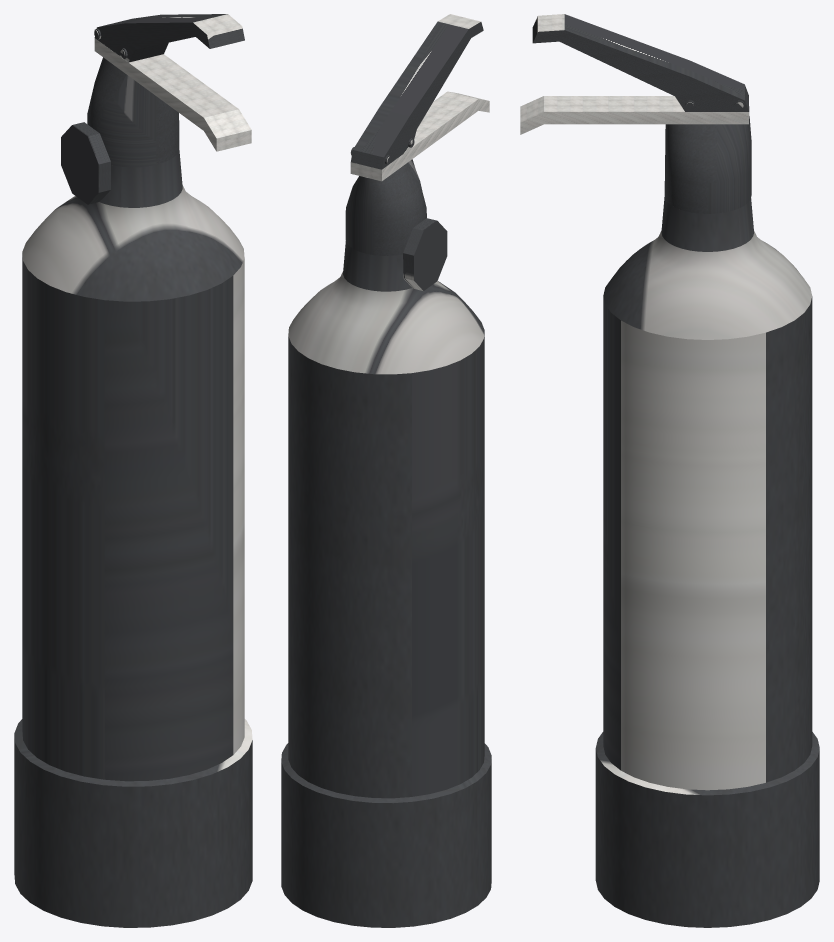
The picture shows the model from 3 angles, left to right: view 1: azimuth 30°, elevation 25°; view 2: azimuth 150°, elevation 25°; view 3: azimuth 270°, elevation 25°; orthographic projection. The views are drawn at different scales.
Parts seen in each view (by area): view 1: Cylinder, Cube.001, Cylinder.005, Cylinder.006; view 2: Cylinder, Cube.001, Cylinder.005, Cylinder.006; view 3: Cylinder, Cube.001, Cylinder.005.
Boxes of the visible parts, box(x1,y1,x2,y2) form: Cylinder: box(14, 150, 252, 927); Cube.001: box(94, 14, 251, 151); Cylinder.005: box(87, 57, 179, 167); Cylinder.006: box(61, 122, 110, 204); Cylinder: box(281, 241, 491, 927); Cube.001: box(350, 14, 489, 181); Cylinder.005: box(345, 159, 426, 255); Cylinder.006: box(403, 218, 447, 291); Cylinder: box(595, 196, 819, 927); Cube.001: box(520, 14, 749, 134); Cylinder.005: box(664, 116, 751, 213).
Bounding box in the file's own units: 13.07 × 55.28 × 17.48.
